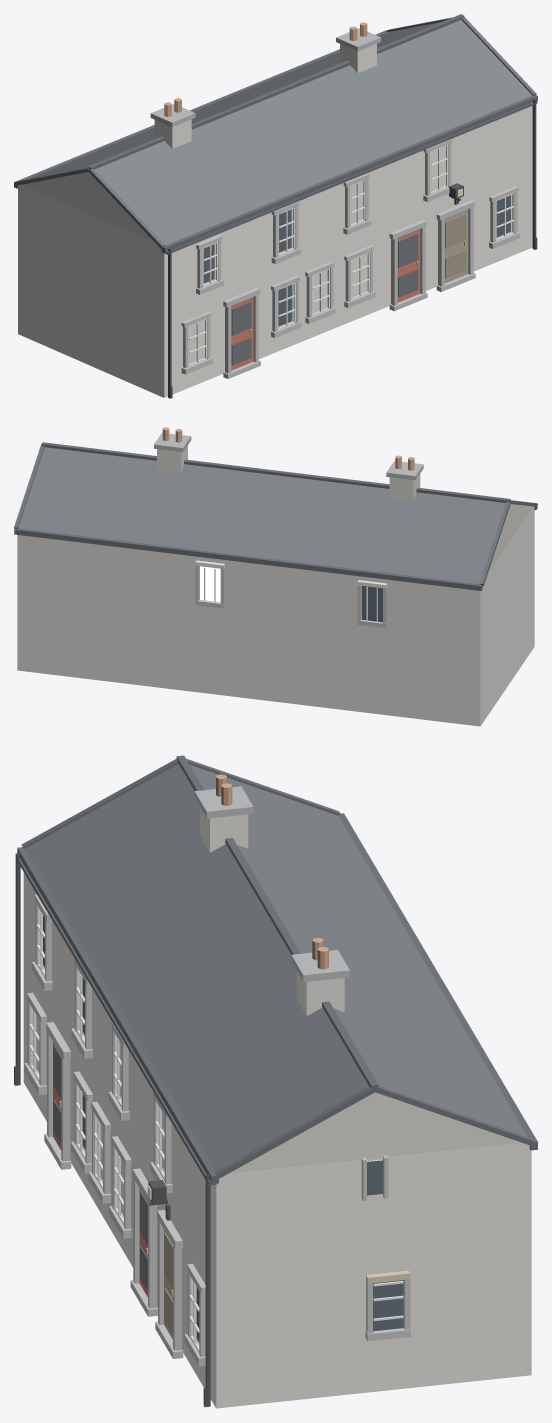
3 renders of one model, top to bottom at view 1: azimuth 30°, elevation 25°; view 2: azimuth 150°, elevation 25°; view 3: azimuth 270°, elevation 25°, orthographic. The views are drawn at different scales.
Parts seen in each view (by area): view 1: harl, slate, stone_band, slate_dk, frame, dress_cream, door_dark_p, pipe, chim_render, door_red, dress_dark, door_grey_p (+3 smaller); view 2: harl, slate, slate_dk, chim_render, stone_band, dress_dark, dress_cream, window_glass_001, window_glass_002, frame, pot; view 3: slate, harl, stone_band, slate_dk, dress_cream, frame, pipe, chim_render, dress_dark, door_dark_p, window_glass_003, pot.
Boxes of the visible parts, box(x1,y1,x2,y2) form: harl: box(18, 106, 532, 397); slate: box(29, 20, 532, 245); stone_band: box(181, 139, 520, 378); slate_dk: box(14, 14, 537, 254); frame: box(188, 144, 514, 366); dress_cream: box(22, 172, 154, 242); door_dark_p: box(231, 233, 418, 365); pipe: box(168, 99, 537, 398); chim_render: box(154, 44, 376, 148); door_red: box(231, 229, 420, 370); dress_dark: box(150, 28, 380, 126); door_grey_p: box(445, 214, 466, 278); harl: box(17, 506, 534, 726); slate: box(18, 447, 505, 583); slate_dk: box(14, 442, 537, 590); chim_render: box(157, 445, 420, 500); stone_band: box(195, 565, 387, 628); dress_dark: box(154, 432, 423, 480); dress_cream: box(488, 504, 533, 573); window_glass_001: box(200, 566, 220, 602); window_glass_002: box(362, 586, 382, 622); frame: box(195, 560, 387, 621); pot: box(162, 427, 414, 470); slate: box(25, 764, 527, 1171); harl: box(23, 872, 531, 1408); stone_band: box(24, 894, 410, 1366); slate_dk: box(17, 755, 537, 1185); dress_cream: box(229, 1092, 520, 1173); frame: box(29, 905, 403, 1352); pipe: box(14, 853, 210, 1407); chim_render: box(200, 807, 344, 1015); dress_dark: box(194, 786, 349, 982); door_dark_p: box(53, 1044, 147, 1291); window_glass_003: box(373, 1280, 403, 1331); pot: box(216, 774, 328, 969).
Bounding box in the file's own units: 15.75 × 7.31 × 9.59.
